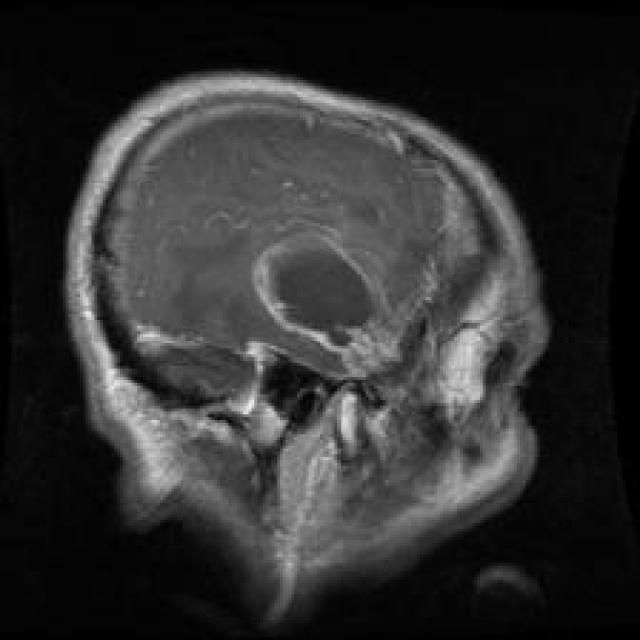glioma_tumor: (250, 222, 390, 356)
